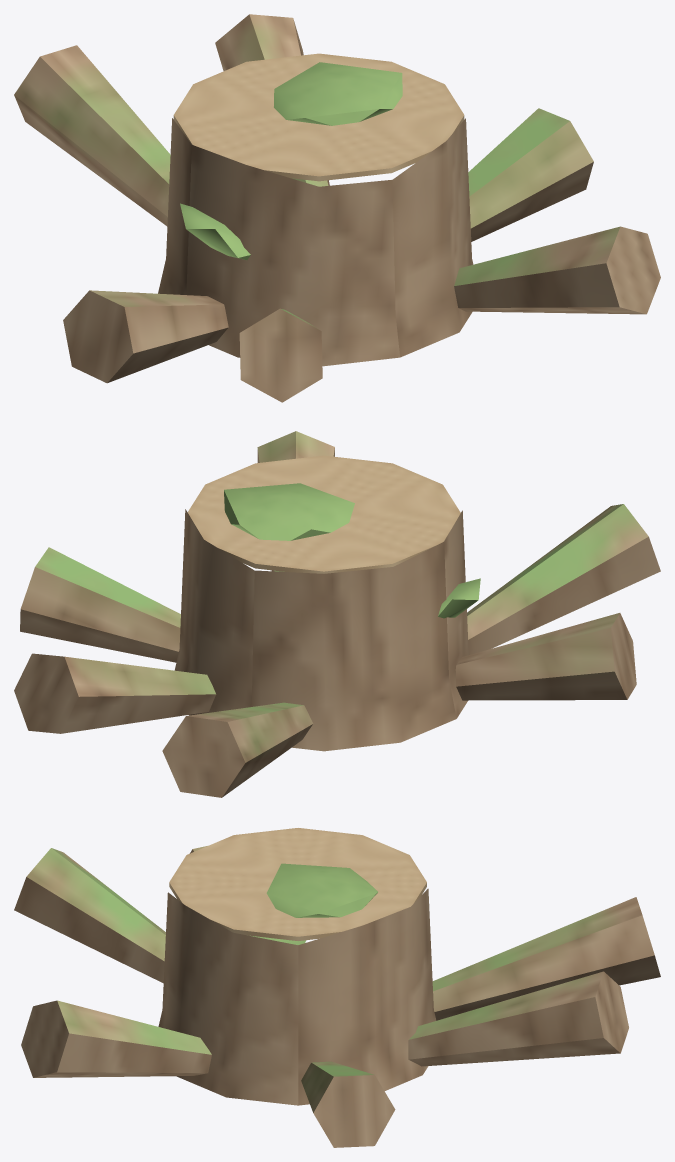
The model's file is stump.gltf.
3 renders of one model, top to bottom at view 1: azimuth 30°, elevation 25°; view 2: azimuth 150°, elevation 25°; view 3: azimuth 270°, elevation 25°, orthographic. The views are drawn at different scales.
Parts seen in each view (by area): view 1: stump; view 2: stump; view 3: stump.
Part boxes in pixels (left/top/right/bottom): stump: left=14, top=14, right=660, bottom=402; stump: left=14, top=431, right=660, bottom=797; stump: left=14, top=828, right=660, bottom=1147.
Size of the model in its own units: 1.81 by 0.6128 by 2.
Materials: 1 (1 with a texture image).
